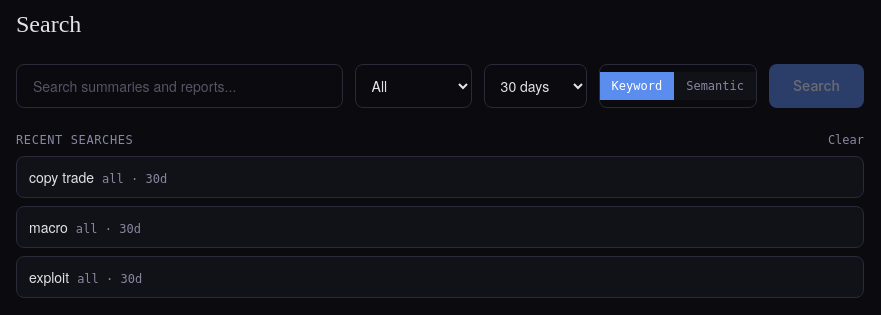
Test case: Search › renders a price alert preview ahead of unusual activity and macro alerts on report hits when no active chain preview is present
Type "contrarian" into the field with placeholder "Search summaries and reports..." at {"x": 179, "y": 86}, box [16,64,343,108]
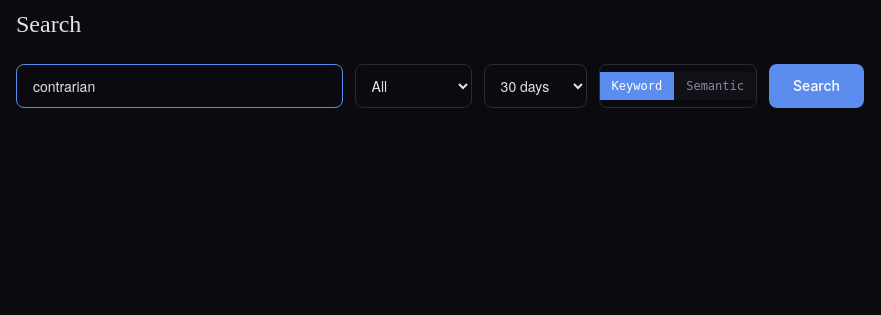
Click the button "Search" at {"x": 816, "y": 86}, box [769,64,864,108]
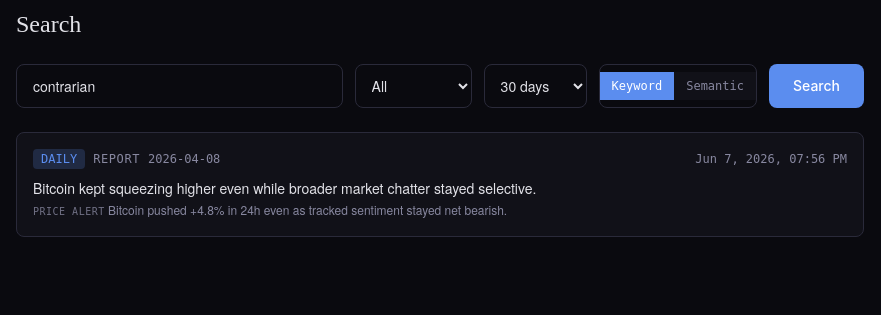
Expected: the text "Price Alert" is shown, [33,206,105,217]
Expected: the text "Bitcoin pushed +4.8% in 24h even as tracked sentiment stayed net bearish." is shown, [108,201,507,218]
